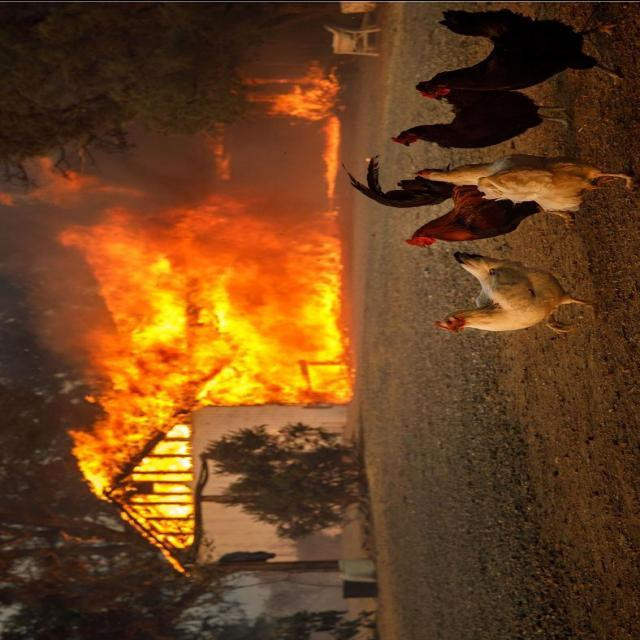Fire: (24, 203, 358, 587), (245, 64, 348, 202)
